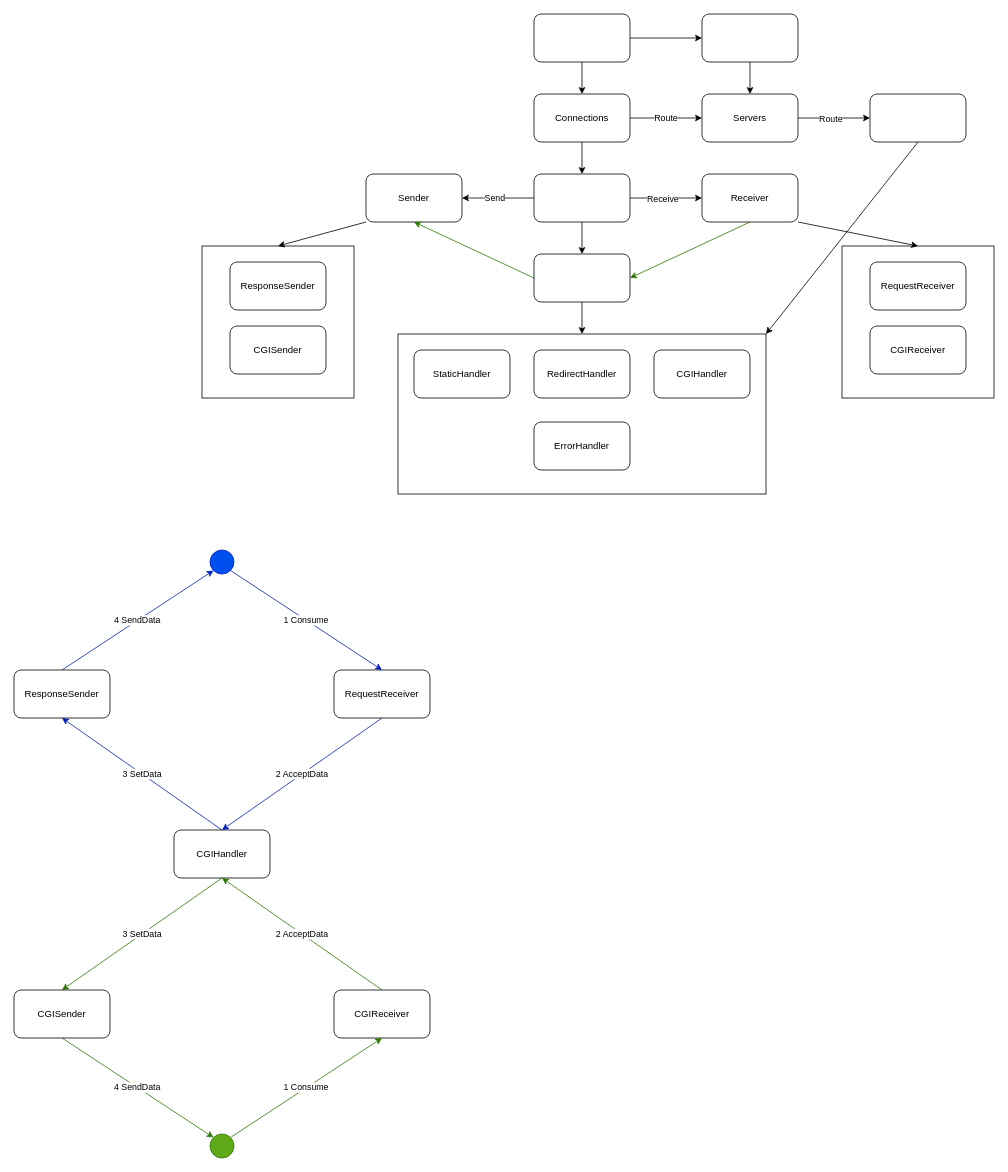
Some shapes in this 1008 by 1172 pixel diagram are drawn without their labels. The shapes that lost their labels are listed below. From the top down, each one's centre as x and y in pixels, then its label:
At (581,37): "Worker".
At (749,37): "Config".
At (917,117): "Routes".
At (581,197): "Channels".
At (581,277): "Handler".
